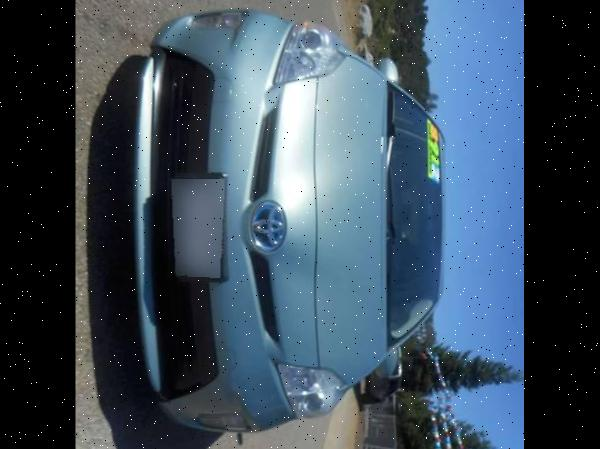Front_Bumper: (153, 6, 322, 432)
Front_Windshield: (386, 80, 446, 346)
Grille: (139, 41, 218, 403)
Hood: (314, 48, 388, 387)
Left_Headlight: (278, 361, 346, 419)
Left_Mirror: (376, 345, 400, 374)
Right_Headlight: (274, 19, 353, 86)
Right_Mirror: (375, 57, 399, 80)
